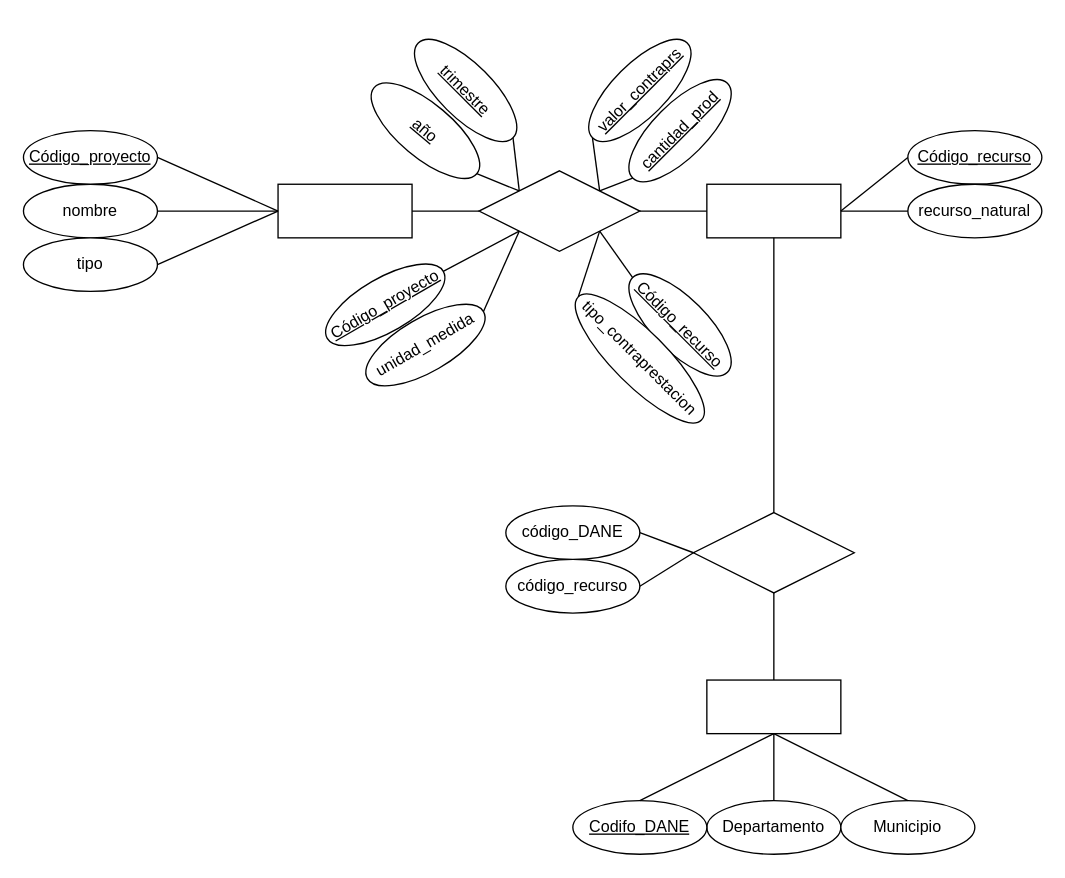
This 1065x878 diagram has some shape labels left out. The centre of each missing label's shape, as x and y in pixels:
Ciudad: (773,706)
Ciudad_recurso: (773,552)
Explota: (559,210)
Proyecto: (344,210)
Recurso: (773,210)
